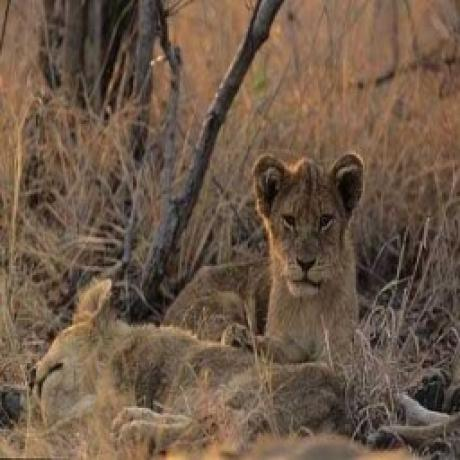Lion: (160, 151, 372, 376)
